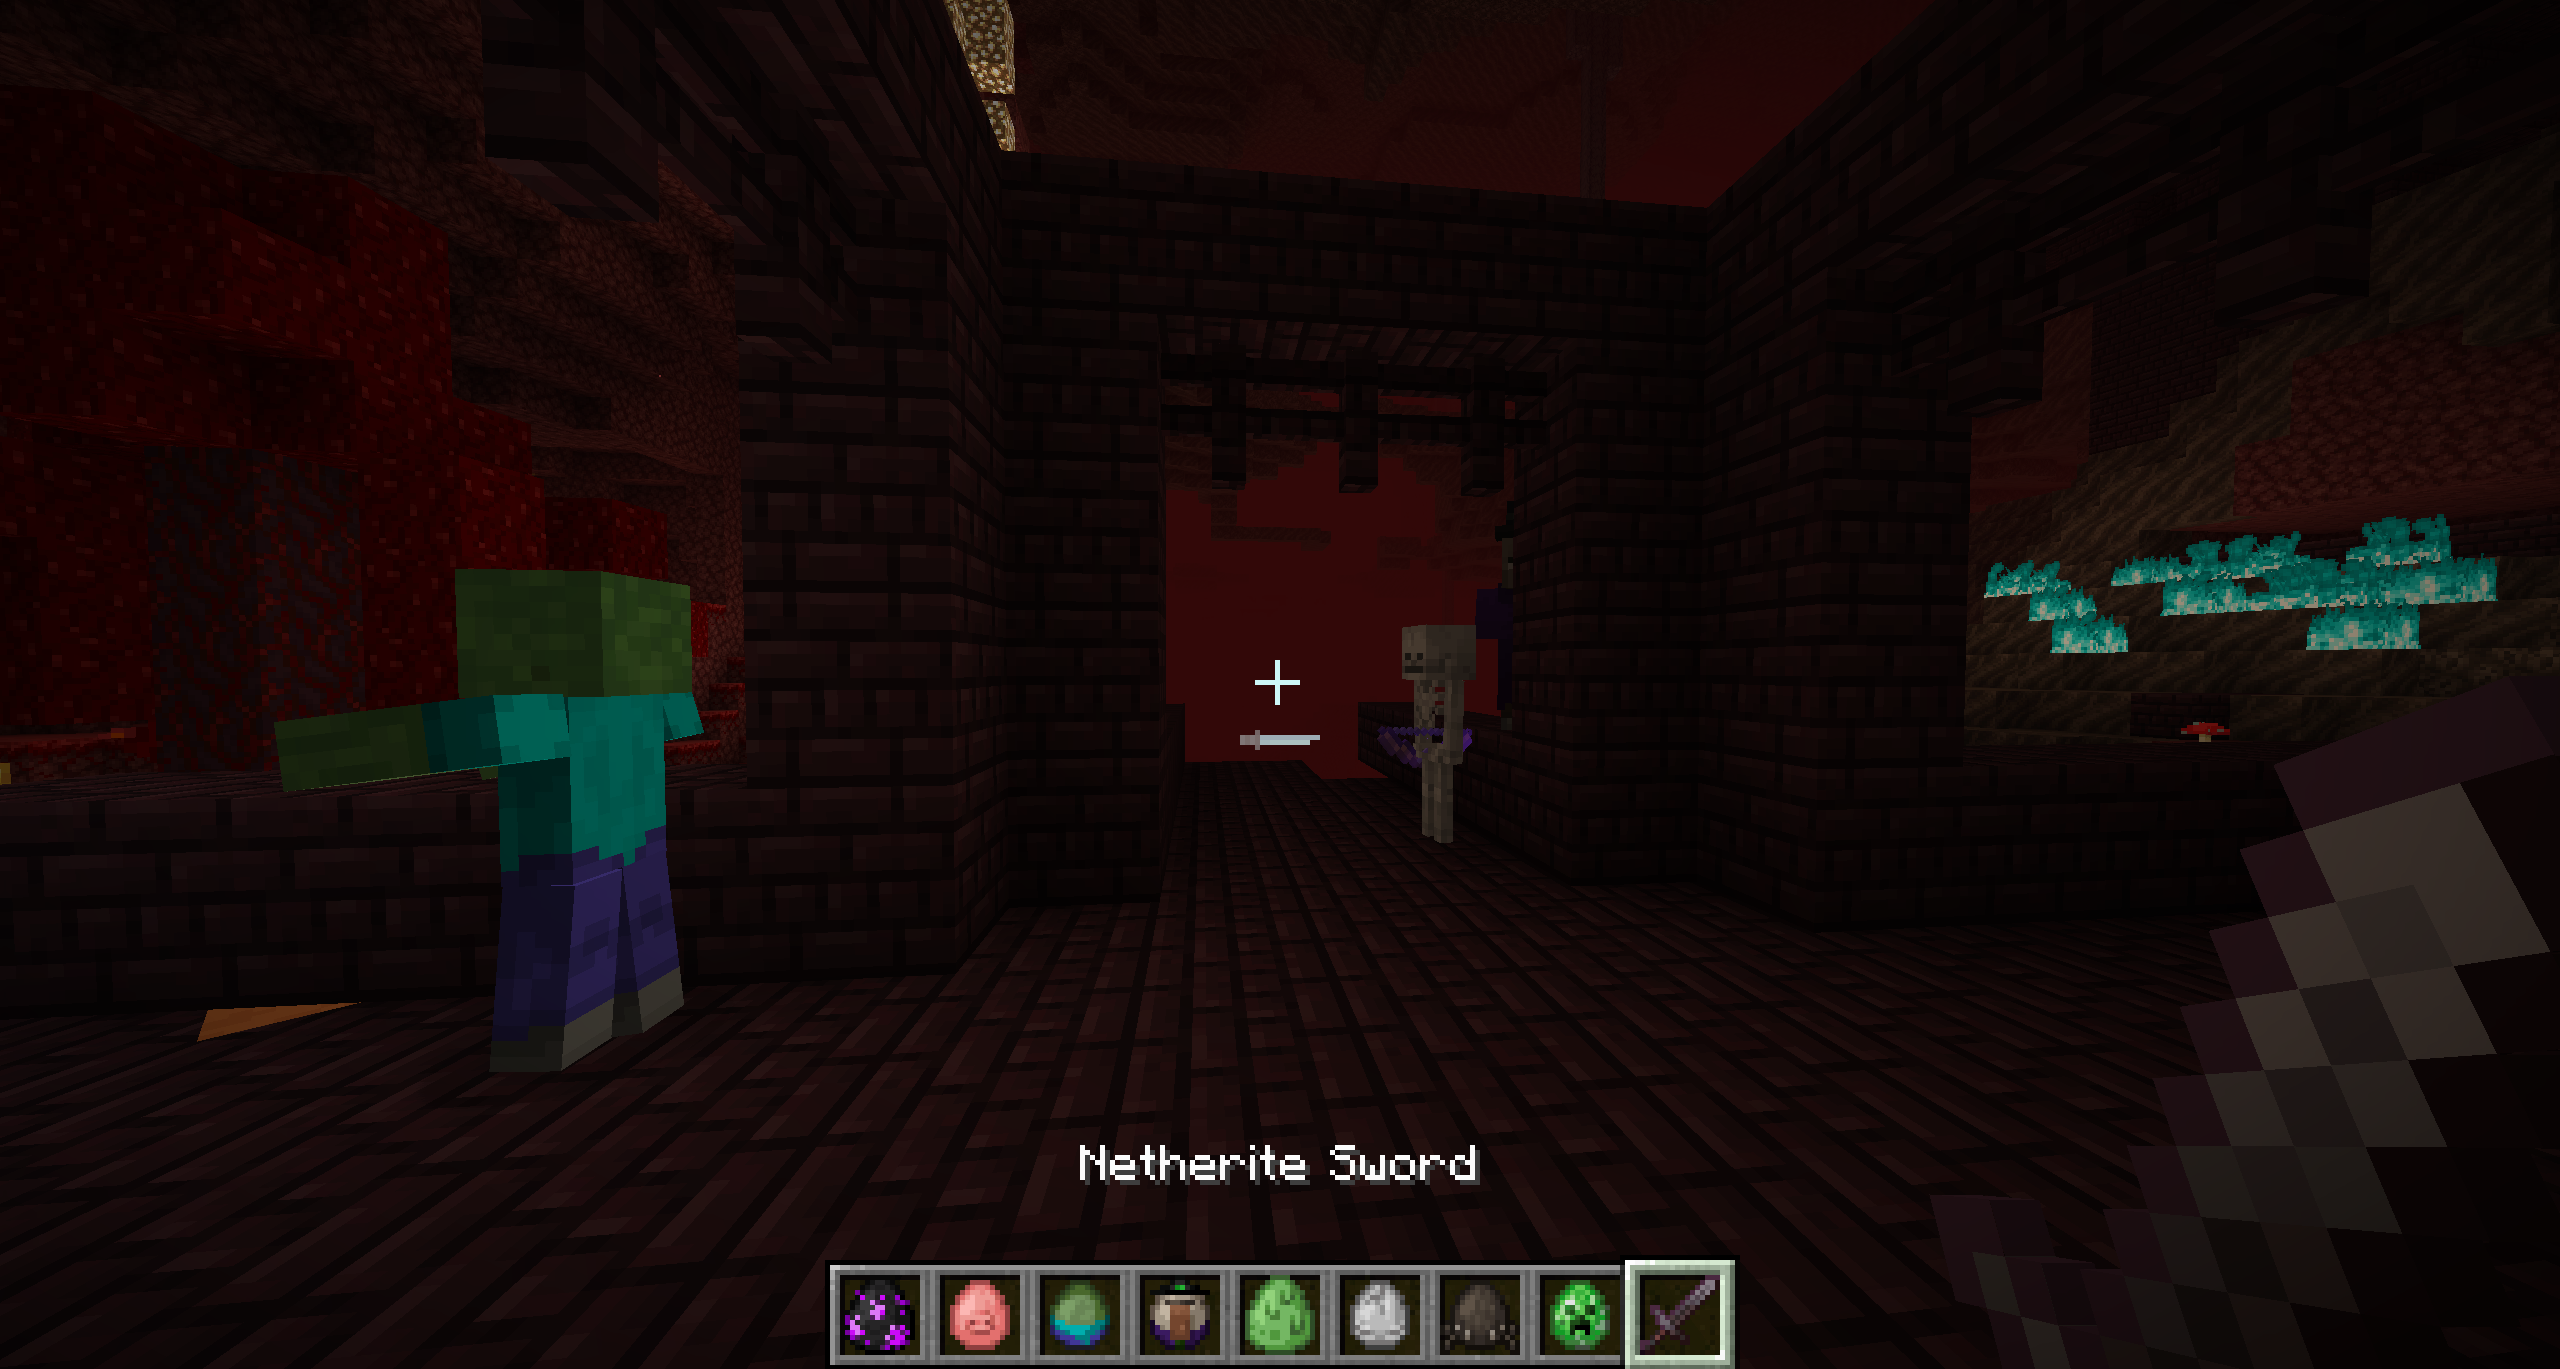squelettes: (1400, 624, 1475, 843)
zombies: (334, 564, 731, 1078)
